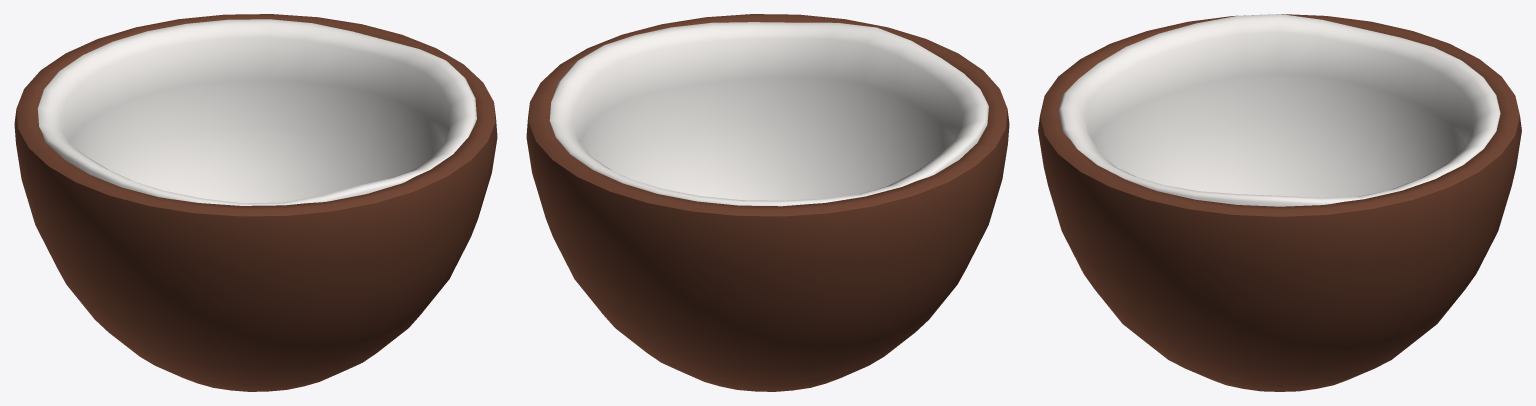
The model's file is CocoALaMitad.glb.
The picture shows the model from 3 angles, left to right: view 1: azimuth 30°, elevation 25°; view 2: azimuth 150°, elevation 25°; view 3: azimuth 270°, elevation 25°; orthographic projection.
Visible parts, largest first — view 1: CocoALaMitad; view 2: CocoALaMitad; view 3: CocoALaMitad.
Part boxes in pixels (box(x1,y1,x2,y2)): CocoALaMitad: box(14, 14, 497, 391); CocoALaMitad: box(526, 14, 1009, 391); CocoALaMitad: box(1038, 14, 1521, 391).
Size of the model in its own units: 1.91 by 1.17 by 1.91.
